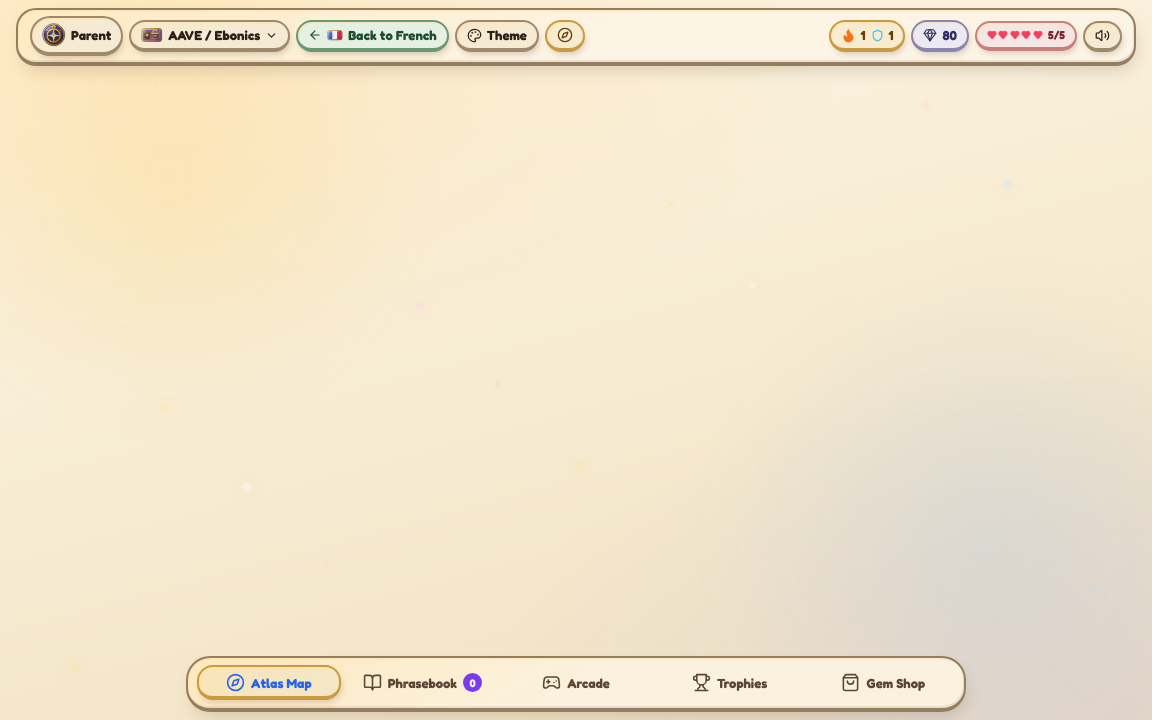
Test case: Cohort G [PT-116..PT-125]: Sprint 3 Features (Operation Aurora Pact) › [PT-123] (S3-006) defaults Secondary Adult profile to Parent, records lastKidProfileId, honors legacy restoreKidProfileOnStudyBreak=false, and restores prior ki
The image size is (1152, 720).
Earlier steps of the test are not shown.
Later steps or results of the test are not shown.
Click the button with test id "return-to-kid-atlas-btn" at (372, 36), box [296,20,449,52]
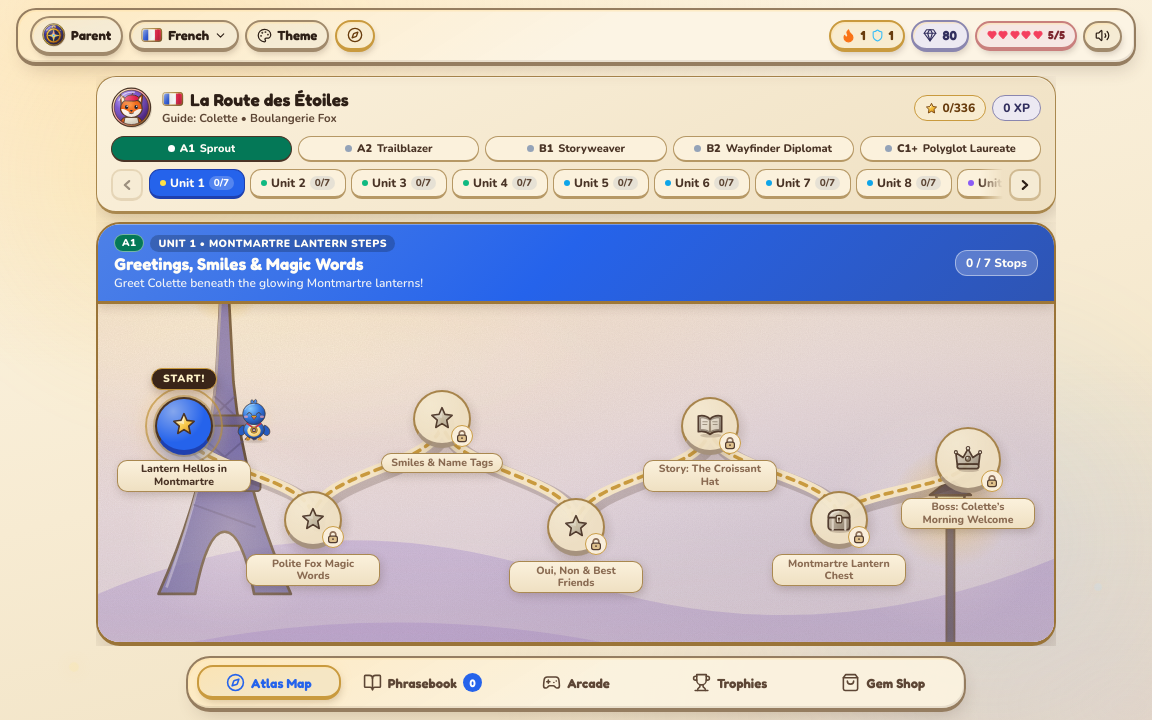
Expected: the button with test id "return-to-kid-atlas-btn" is gone
